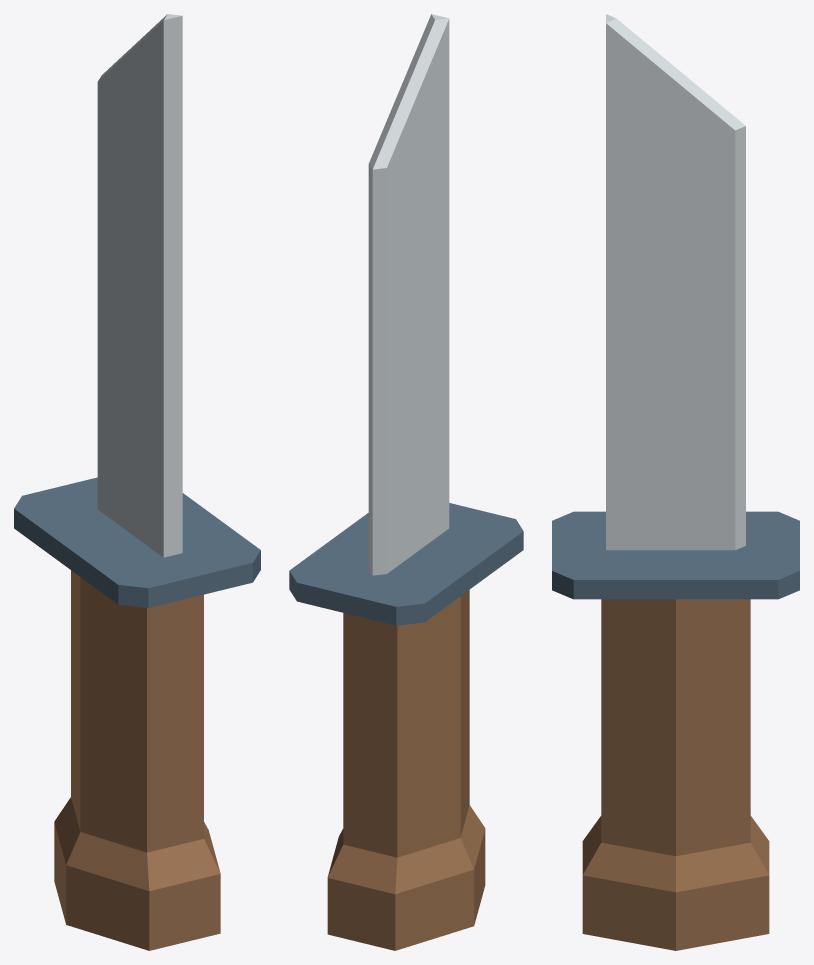
The model's file is knifeRound_sharp.fbx.
3 views of the same model, side by side, from view 1: azimuth 30°, elevation 25°; view 2: azimuth 150°, elevation 25°; view 3: azimuth 270°, elevation 25° (orthographic). The views are drawn at different scales.
Parts seen in each view (by area): view 1: knifeRound_sharp; view 2: knifeRound_sharp; view 3: knifeRound_sharp.
Part boxes in pixels (box(x1,y1,x2,y2)): knifeRound_sharp: box(14, 14, 260, 950); knifeRound_sharp: box(289, 14, 523, 950); knifeRound_sharp: box(552, 14, 799, 950).
Size of the model in its own units: 0.5742 by 3.52 by 0.8804.
